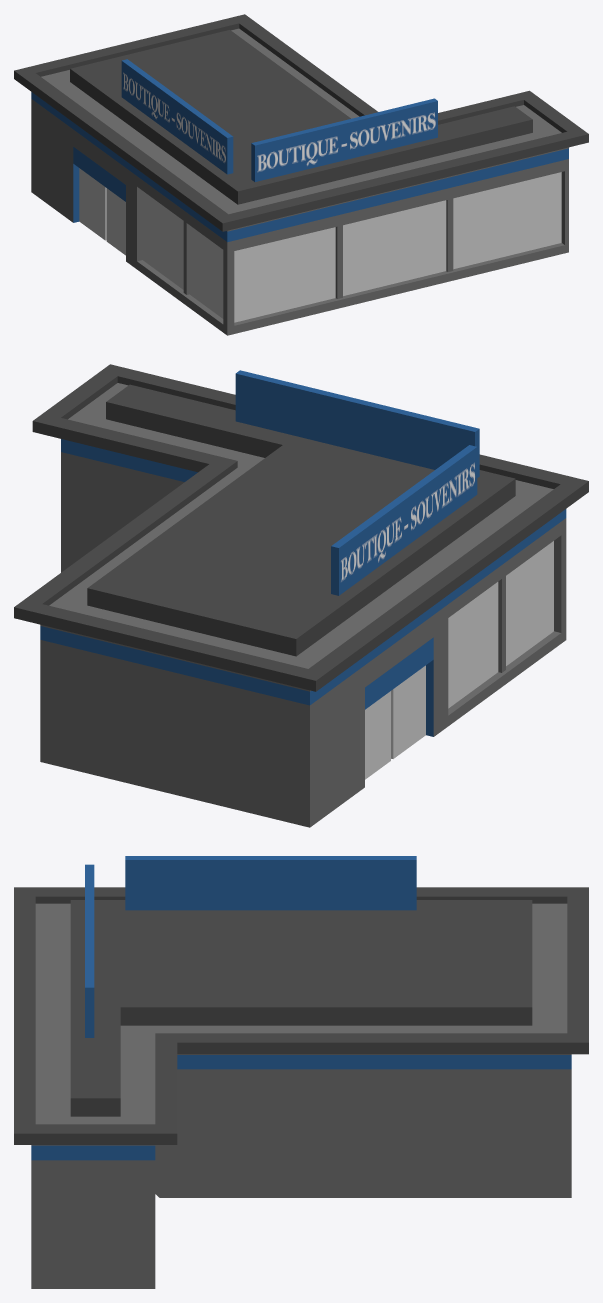
File: Boutique_Souvenirs.fbx
The picture shows the model from 3 angles, top to bottom: view 1: azimuth 30°, elevation 25°; view 2: azimuth 150°, elevation 25°; view 3: azimuth 270°, elevation 25°; orthographic projection. The views are drawn at different scales.
Visible parts, largest first — view 1: Boutique_Souvenirs; view 2: Boutique_Souvenirs; view 3: Boutique_Souvenirs.
Boxes of the visible parts, left/top/right/bottom form: Boutique_Souvenirs: left=14, top=14, right=588, bottom=335; Boutique_Souvenirs: left=14, top=364, right=588, bottom=827; Boutique_Souvenirs: left=14, top=856, right=588, bottom=1288.
Size of the model in its own units: 1504 by 645 by 1485.
Materials: 1 (1 with a texture image).
